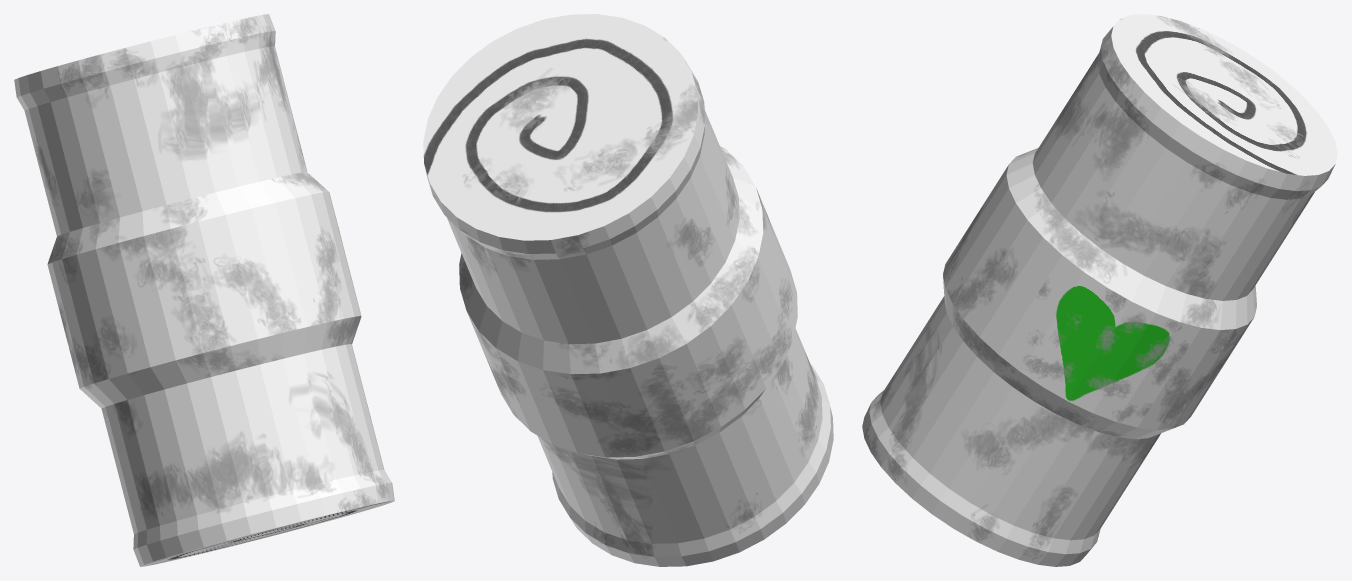
Rendered from blockHealth.obj.
The picture shows the model from 3 angles, left to right: view 1: azimuth 30°, elevation 25°; view 2: azimuth 150°, elevation 25°; view 3: azimuth 270°, elevation 25°; orthographic projection. The views are drawn at different scales.
Parts seen in each view (by area): view 1: blockHealth; view 2: blockHealth; view 3: blockHealth.
Boxes of the visible parts, x1,y1,x2,y2 form: blockHealth: (14, 14, 394, 566); blockHealth: (423, 14, 833, 566); blockHealth: (862, 14, 1337, 566).
Bounding box in the file's own units: 0.4776 × 0.9279 × 0.785.
1 material, 1 textured.
